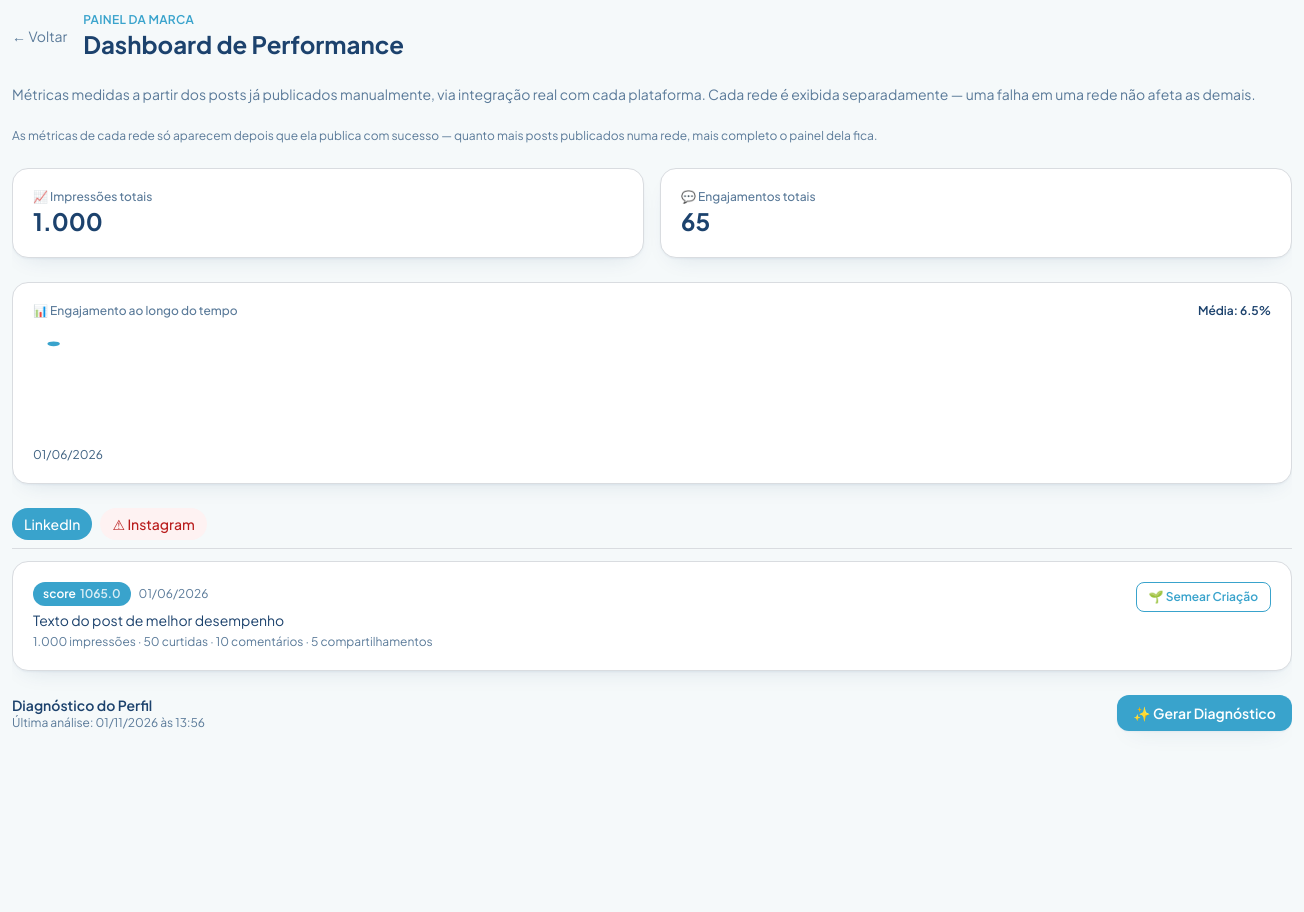
Scenario: PerformanceDashboardPage › isola o erro de uma rede sem afetar a exibição das demais
Expected: the text "Texto do post de melhor desempenho" is shown, [33,611,284,629]
Click the button "⚠ Instagram" at (154,524), box [100,508,207,540]
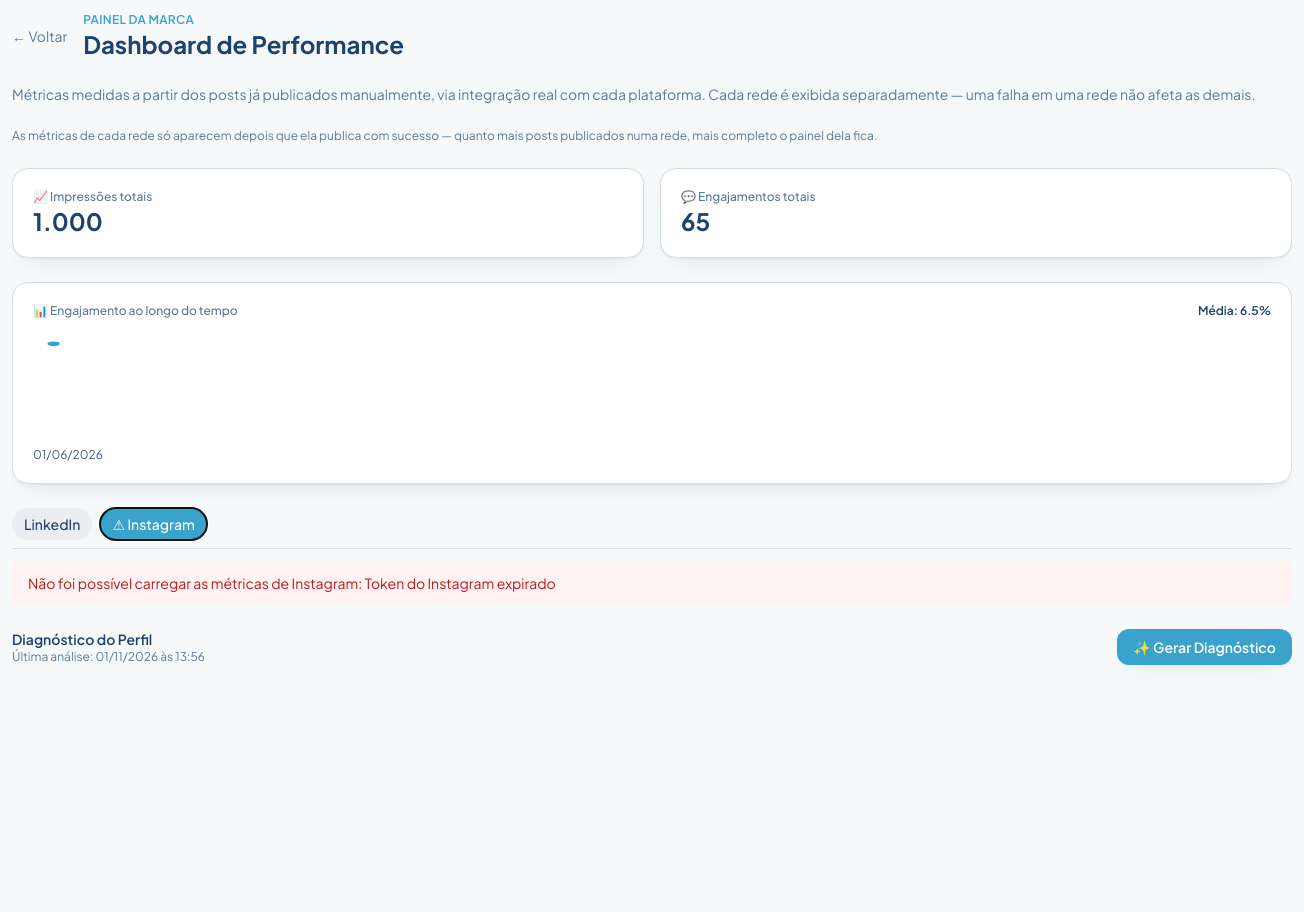
Now the text "Token do Instagram expirado" is shown, box [365,574,556,592]
Now the text "Texto do post de melhor desempenho" is gone
